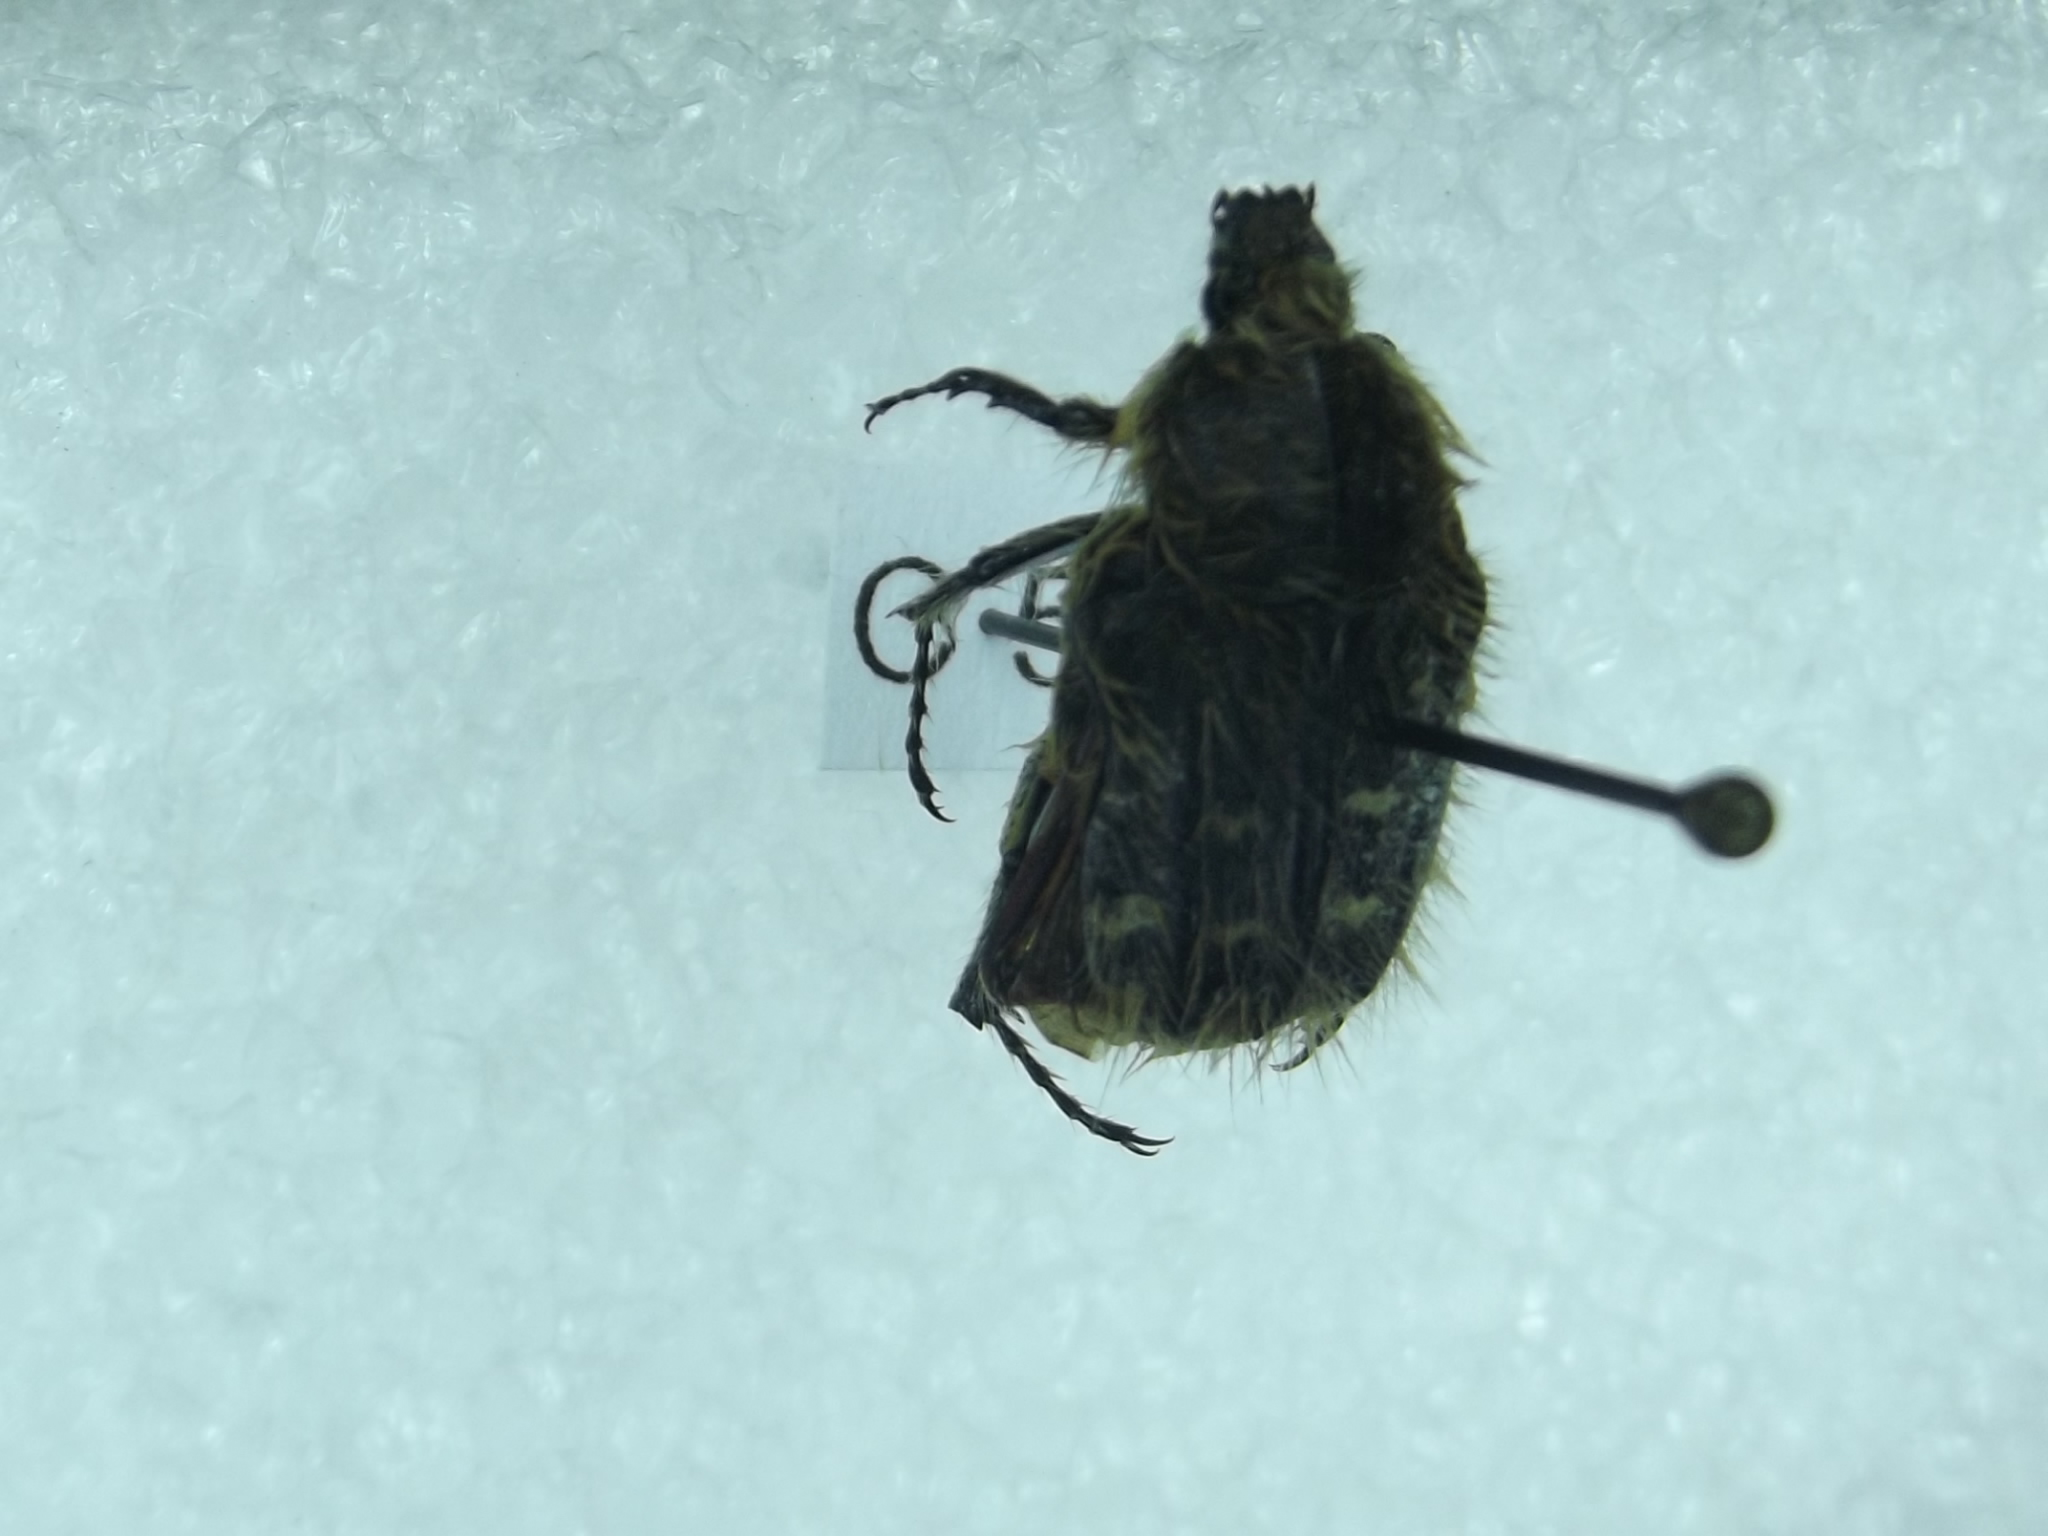Tropinota_hirta: (842, 153, 1506, 1202)
